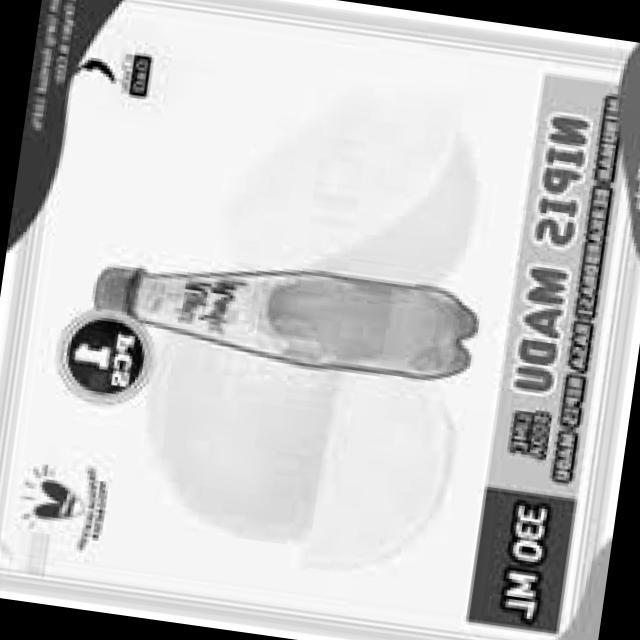good: (70, 221, 487, 415)
